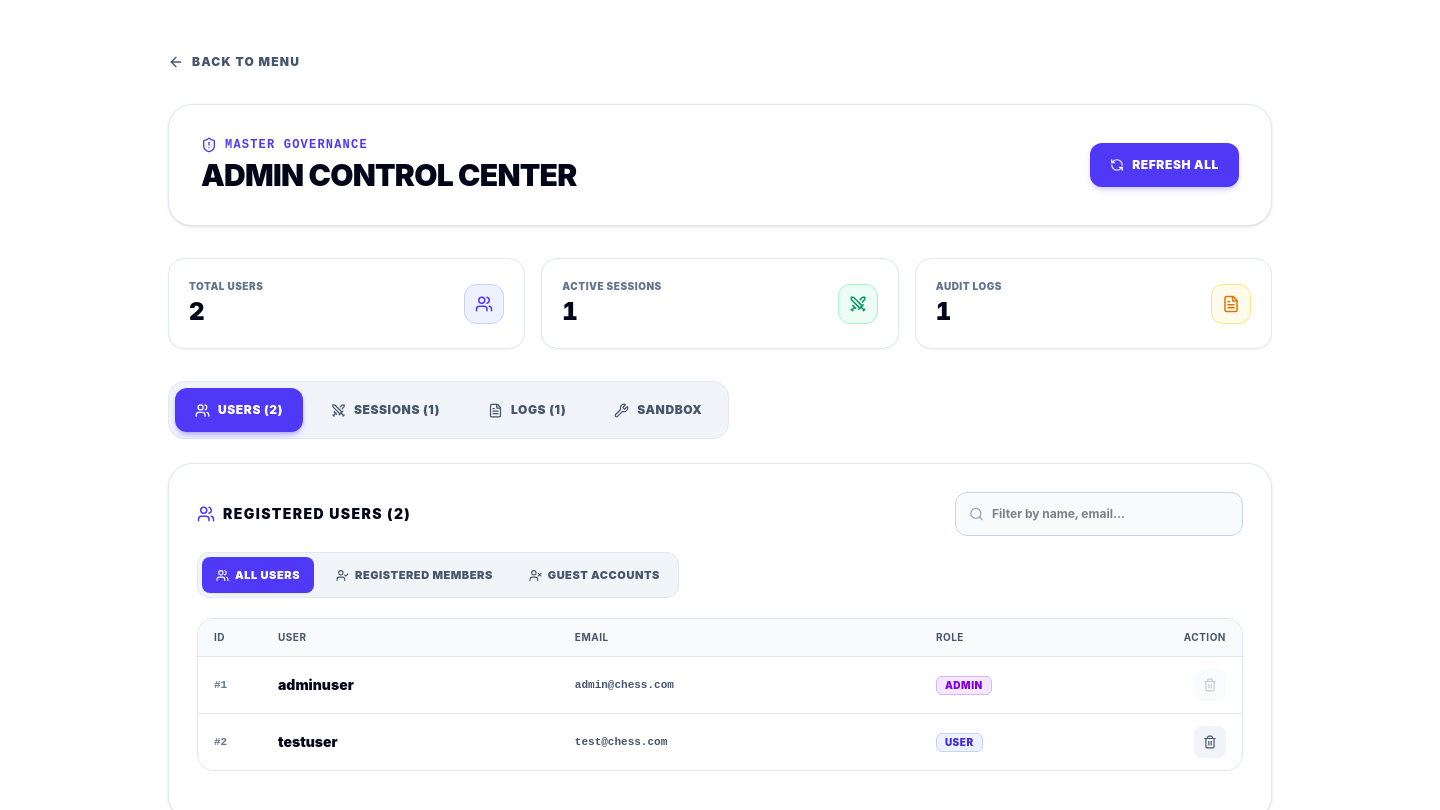
Scenario: AdminDashboard Component › displays audit log entries when switching to logs tab
expect the text "testuser" is shown: met, box [278,733,338,750]
Click the button "Logs (1)": click(527, 410) [468,388,586,432]
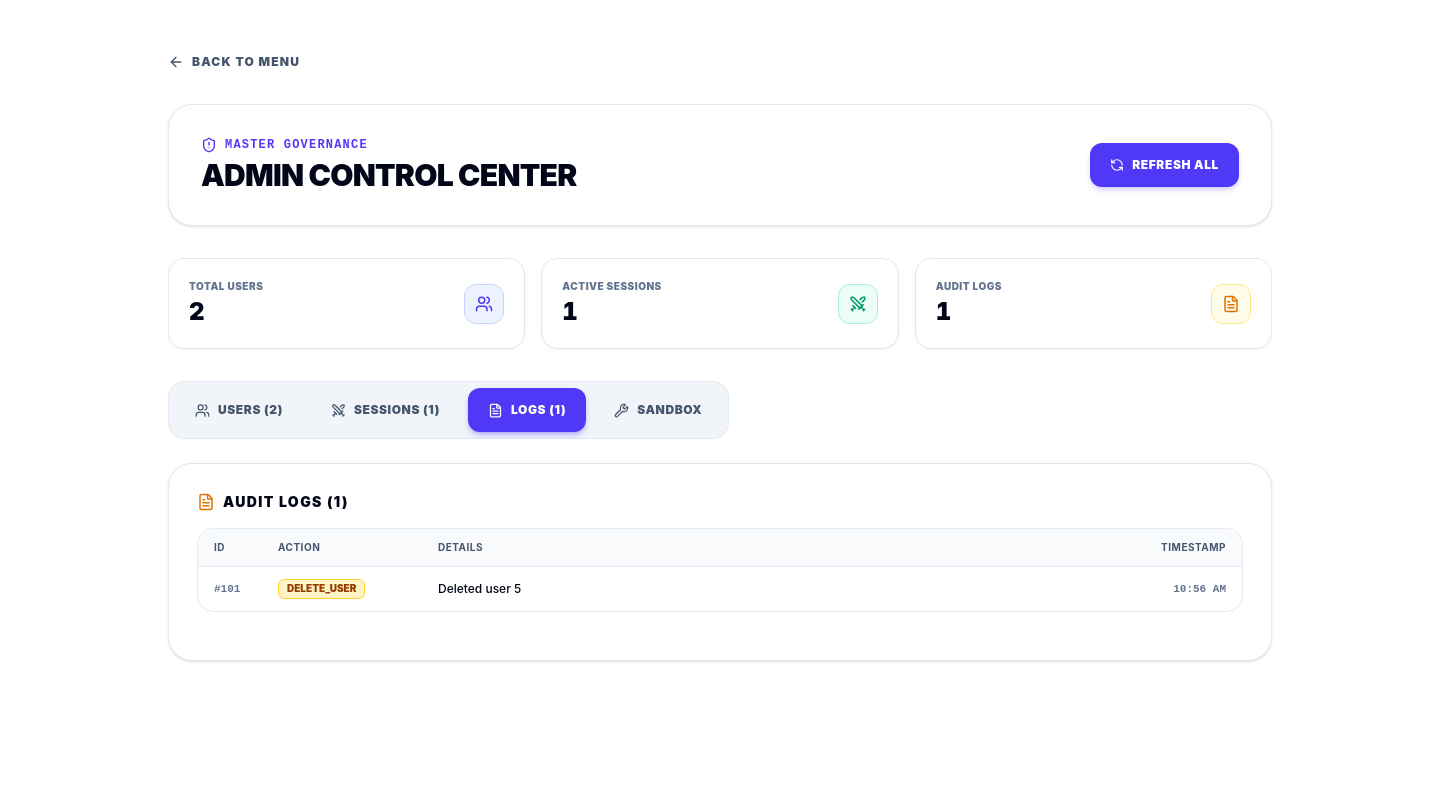
expect the text "DELETE_USER" is shown: met, box [278,579,365,599]
